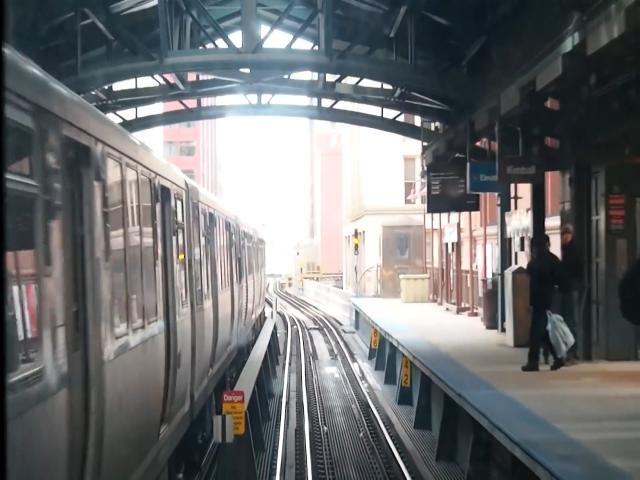signal light: (354, 228, 361, 260)
